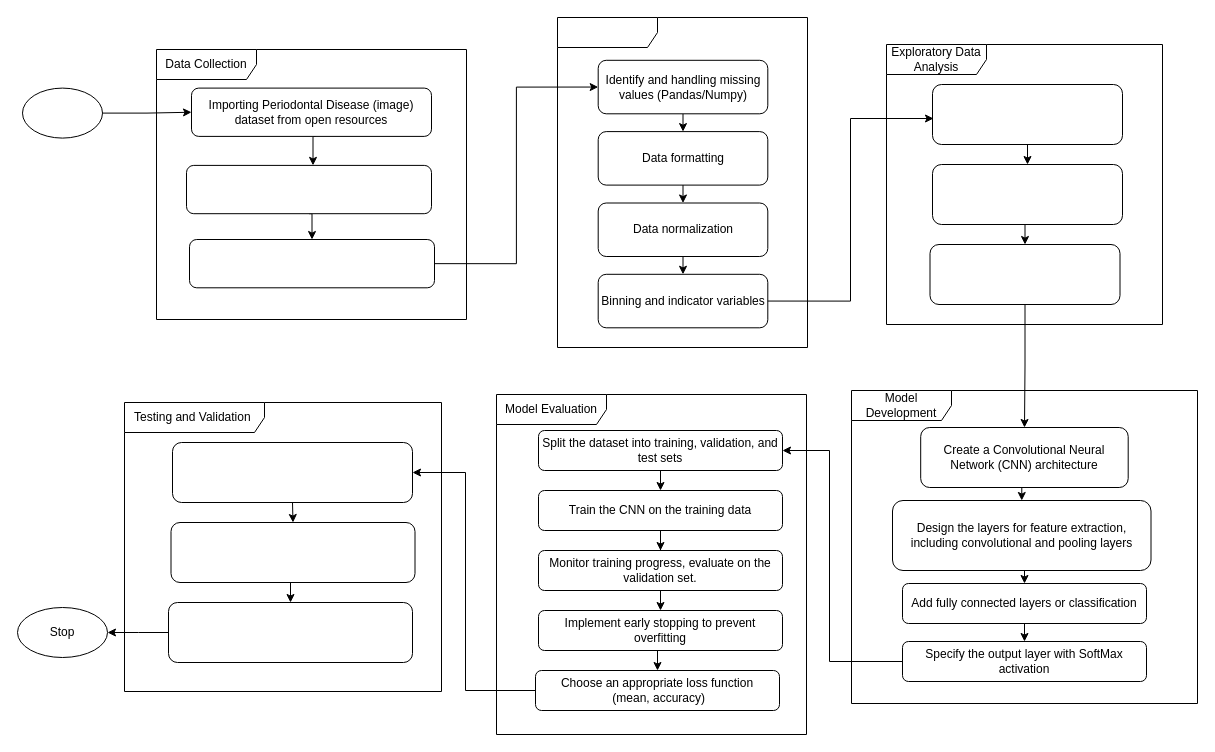
This 1215x752 diagram has some shape labels left out. The shapes that lost their labels are listed below. From the top down, each one's centre as x and y in pixels, then its label:
(x=62, y=112): Start
(x=1027, y=114): Visualize and understand the dataset
(x=309, y=189): Importing and exporting data in Python
(x=682, y=182): Data Wrangling
(x=1027, y=194): Identify the distribution of healthy and Periodontal cases
(x=311, y=263): analyzing data in Python
(x=1024, y=274): Examine image quality and diversity
(x=292, y=472): Apply the trained model to a separate test dataset to assess its performance
(x=292, y=552): Calculate metrics (accuracy, precision, recall, and F1-score)
(x=290, y=632): Use interpretability techniques to understand the model's predictions
